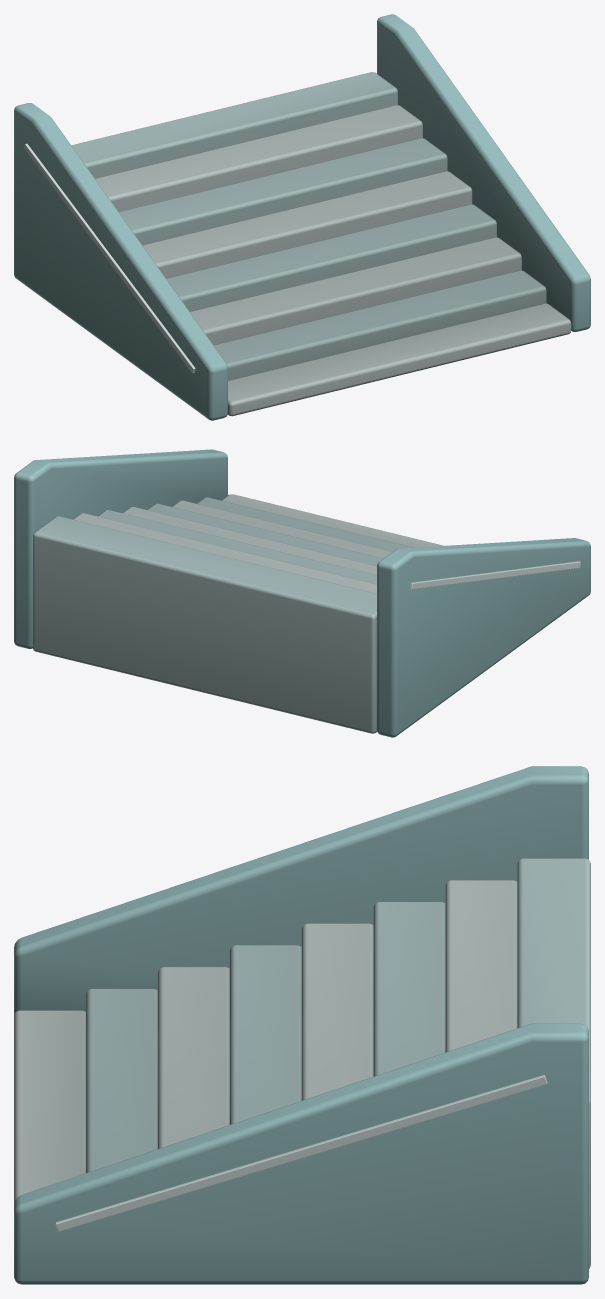
Rendered from stair_lo.glb.
3 views of the same model, one above another, from view 1: azimuth 30°, elevation 25°; view 2: azimuth 150°, elevation 25°; view 3: azimuth 270°, elevation 25° (orthographic). The views are drawn at different scales.
Visible parts, largest first — view 1: stair_lo; view 2: stair_lo; view 3: stair_lo.
Boxes of the visible parts, bbox=[...] form: stair_lo: bbox=[14, 14, 590, 420]; stair_lo: bbox=[14, 449, 590, 737]; stair_lo: bbox=[14, 766, 590, 1284].
Size of the model in its own units: 6.79 by 2.9 by 6.02.
